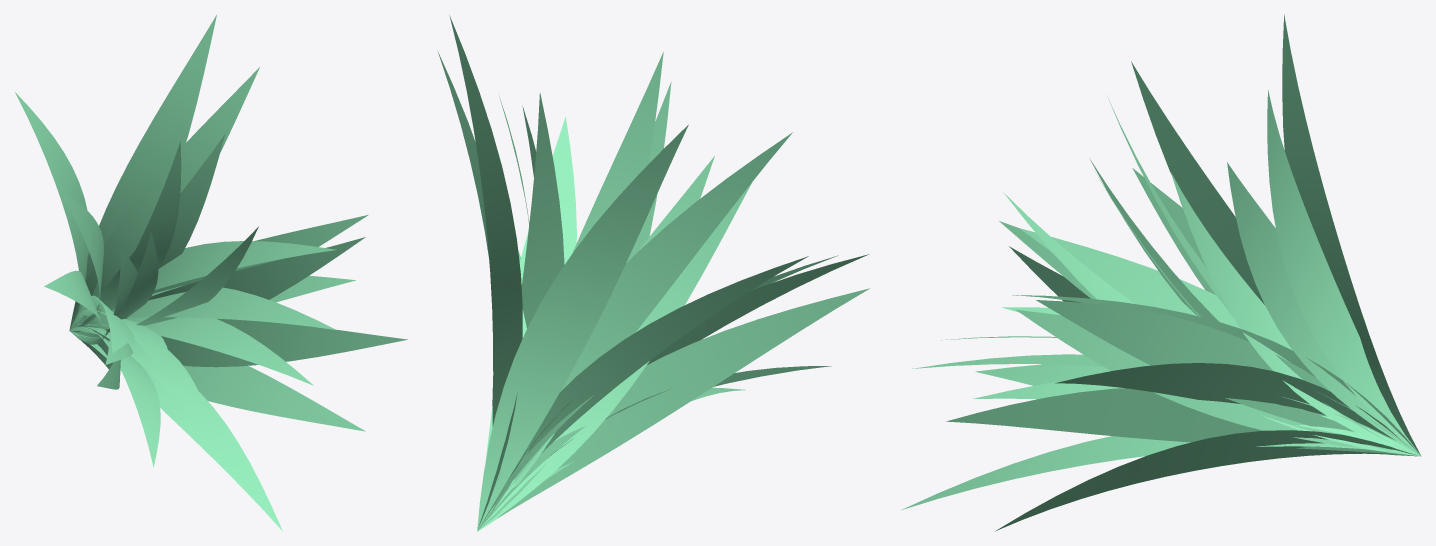
The model's file is fern_2026-04-26T08-56-40-222Z.glb.
The picture shows the model from 3 angles, left to right: view 1: azimuth 30°, elevation 25°; view 2: azimuth 150°, elevation 25°; view 3: azimuth 270°, elevation 25°; orthographic projection. The views are drawn at different scales.
Visible parts, largest first — view 1: giant_jungle_fern; view 2: giant_jungle_fern; view 3: giant_jungle_fern.
Part boxes in pixels (x1=…): giant_jungle_fern: x1=15, y1=15, x2=407, y2=531; giant_jungle_fern: x1=437, y1=15, x2=869, y2=531; giant_jungle_fern: x1=901, y1=14, x2=1421, y2=531.
Bounding box in the file's own units: 8.98 × 11.52 × 11.54.
